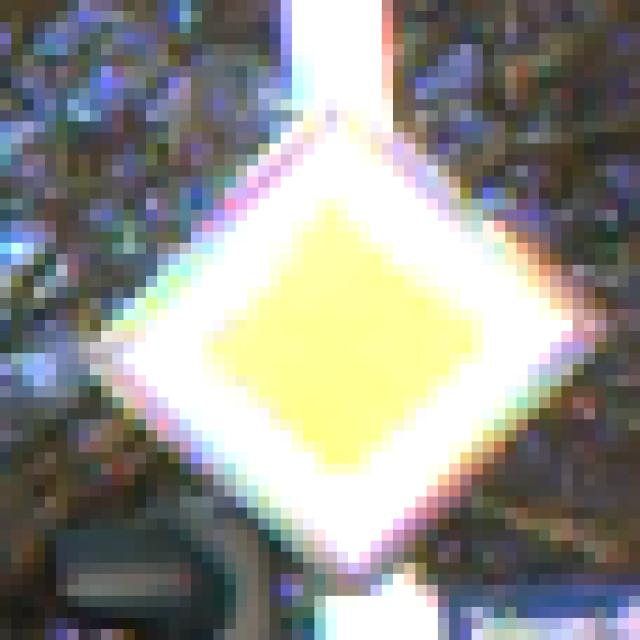Main Road: (57, 67, 585, 586)
